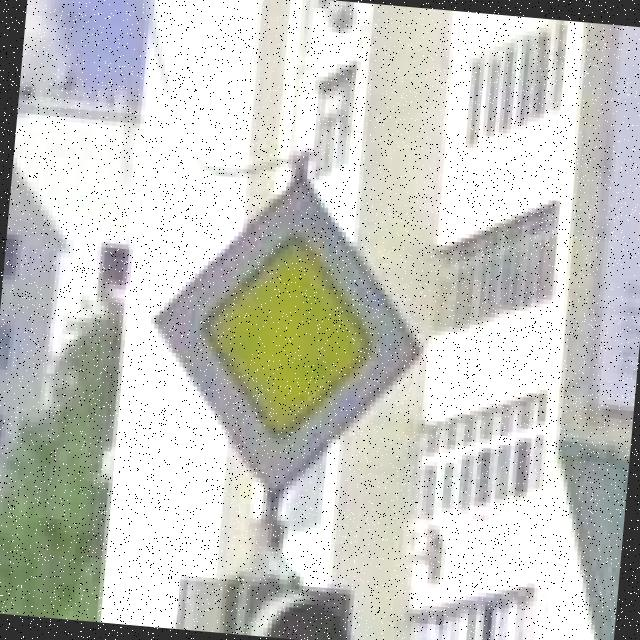Droga z pierwszenstwem: (136, 162, 434, 508)
